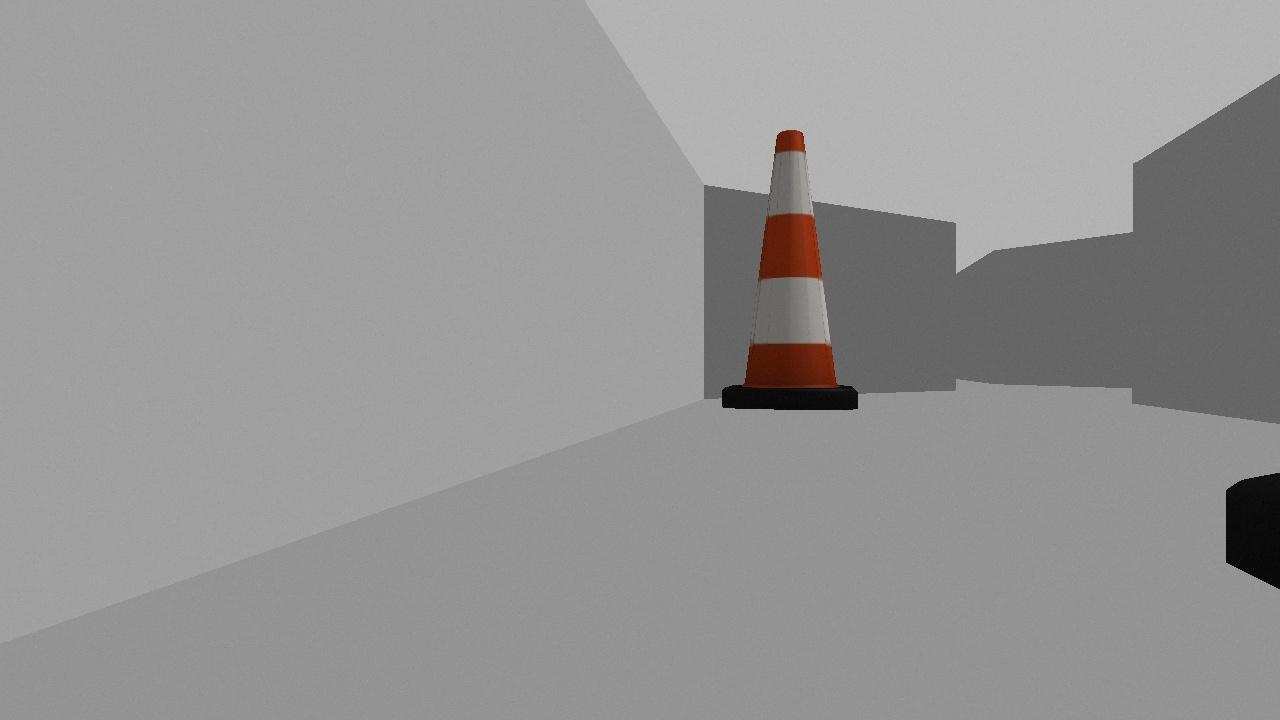cone_barrel: (720, 128, 857, 407)
